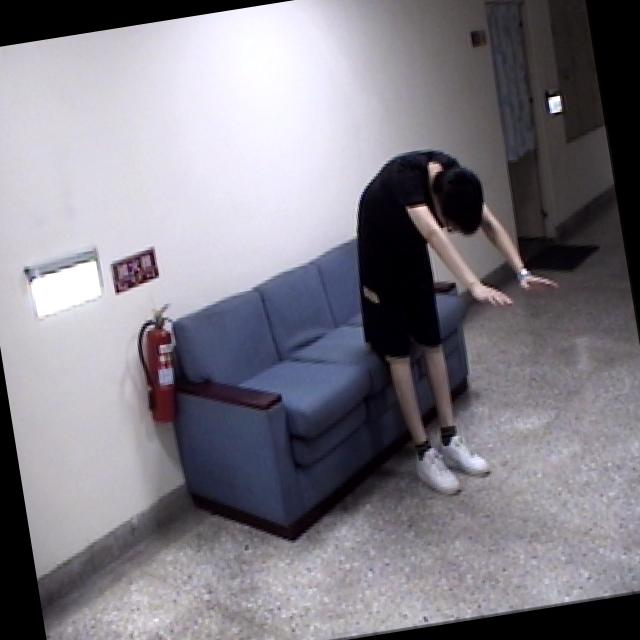bend: (330, 126, 592, 514)
